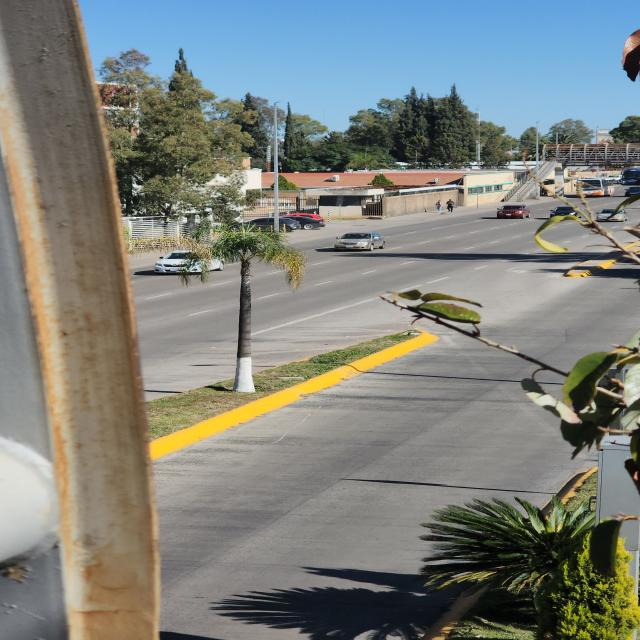Auto: (156, 250, 208, 274), (336, 230, 386, 252), (286, 214, 326, 230), (495, 204, 529, 220)
Peaton: (447, 198, 454, 214), (436, 200, 443, 213)
